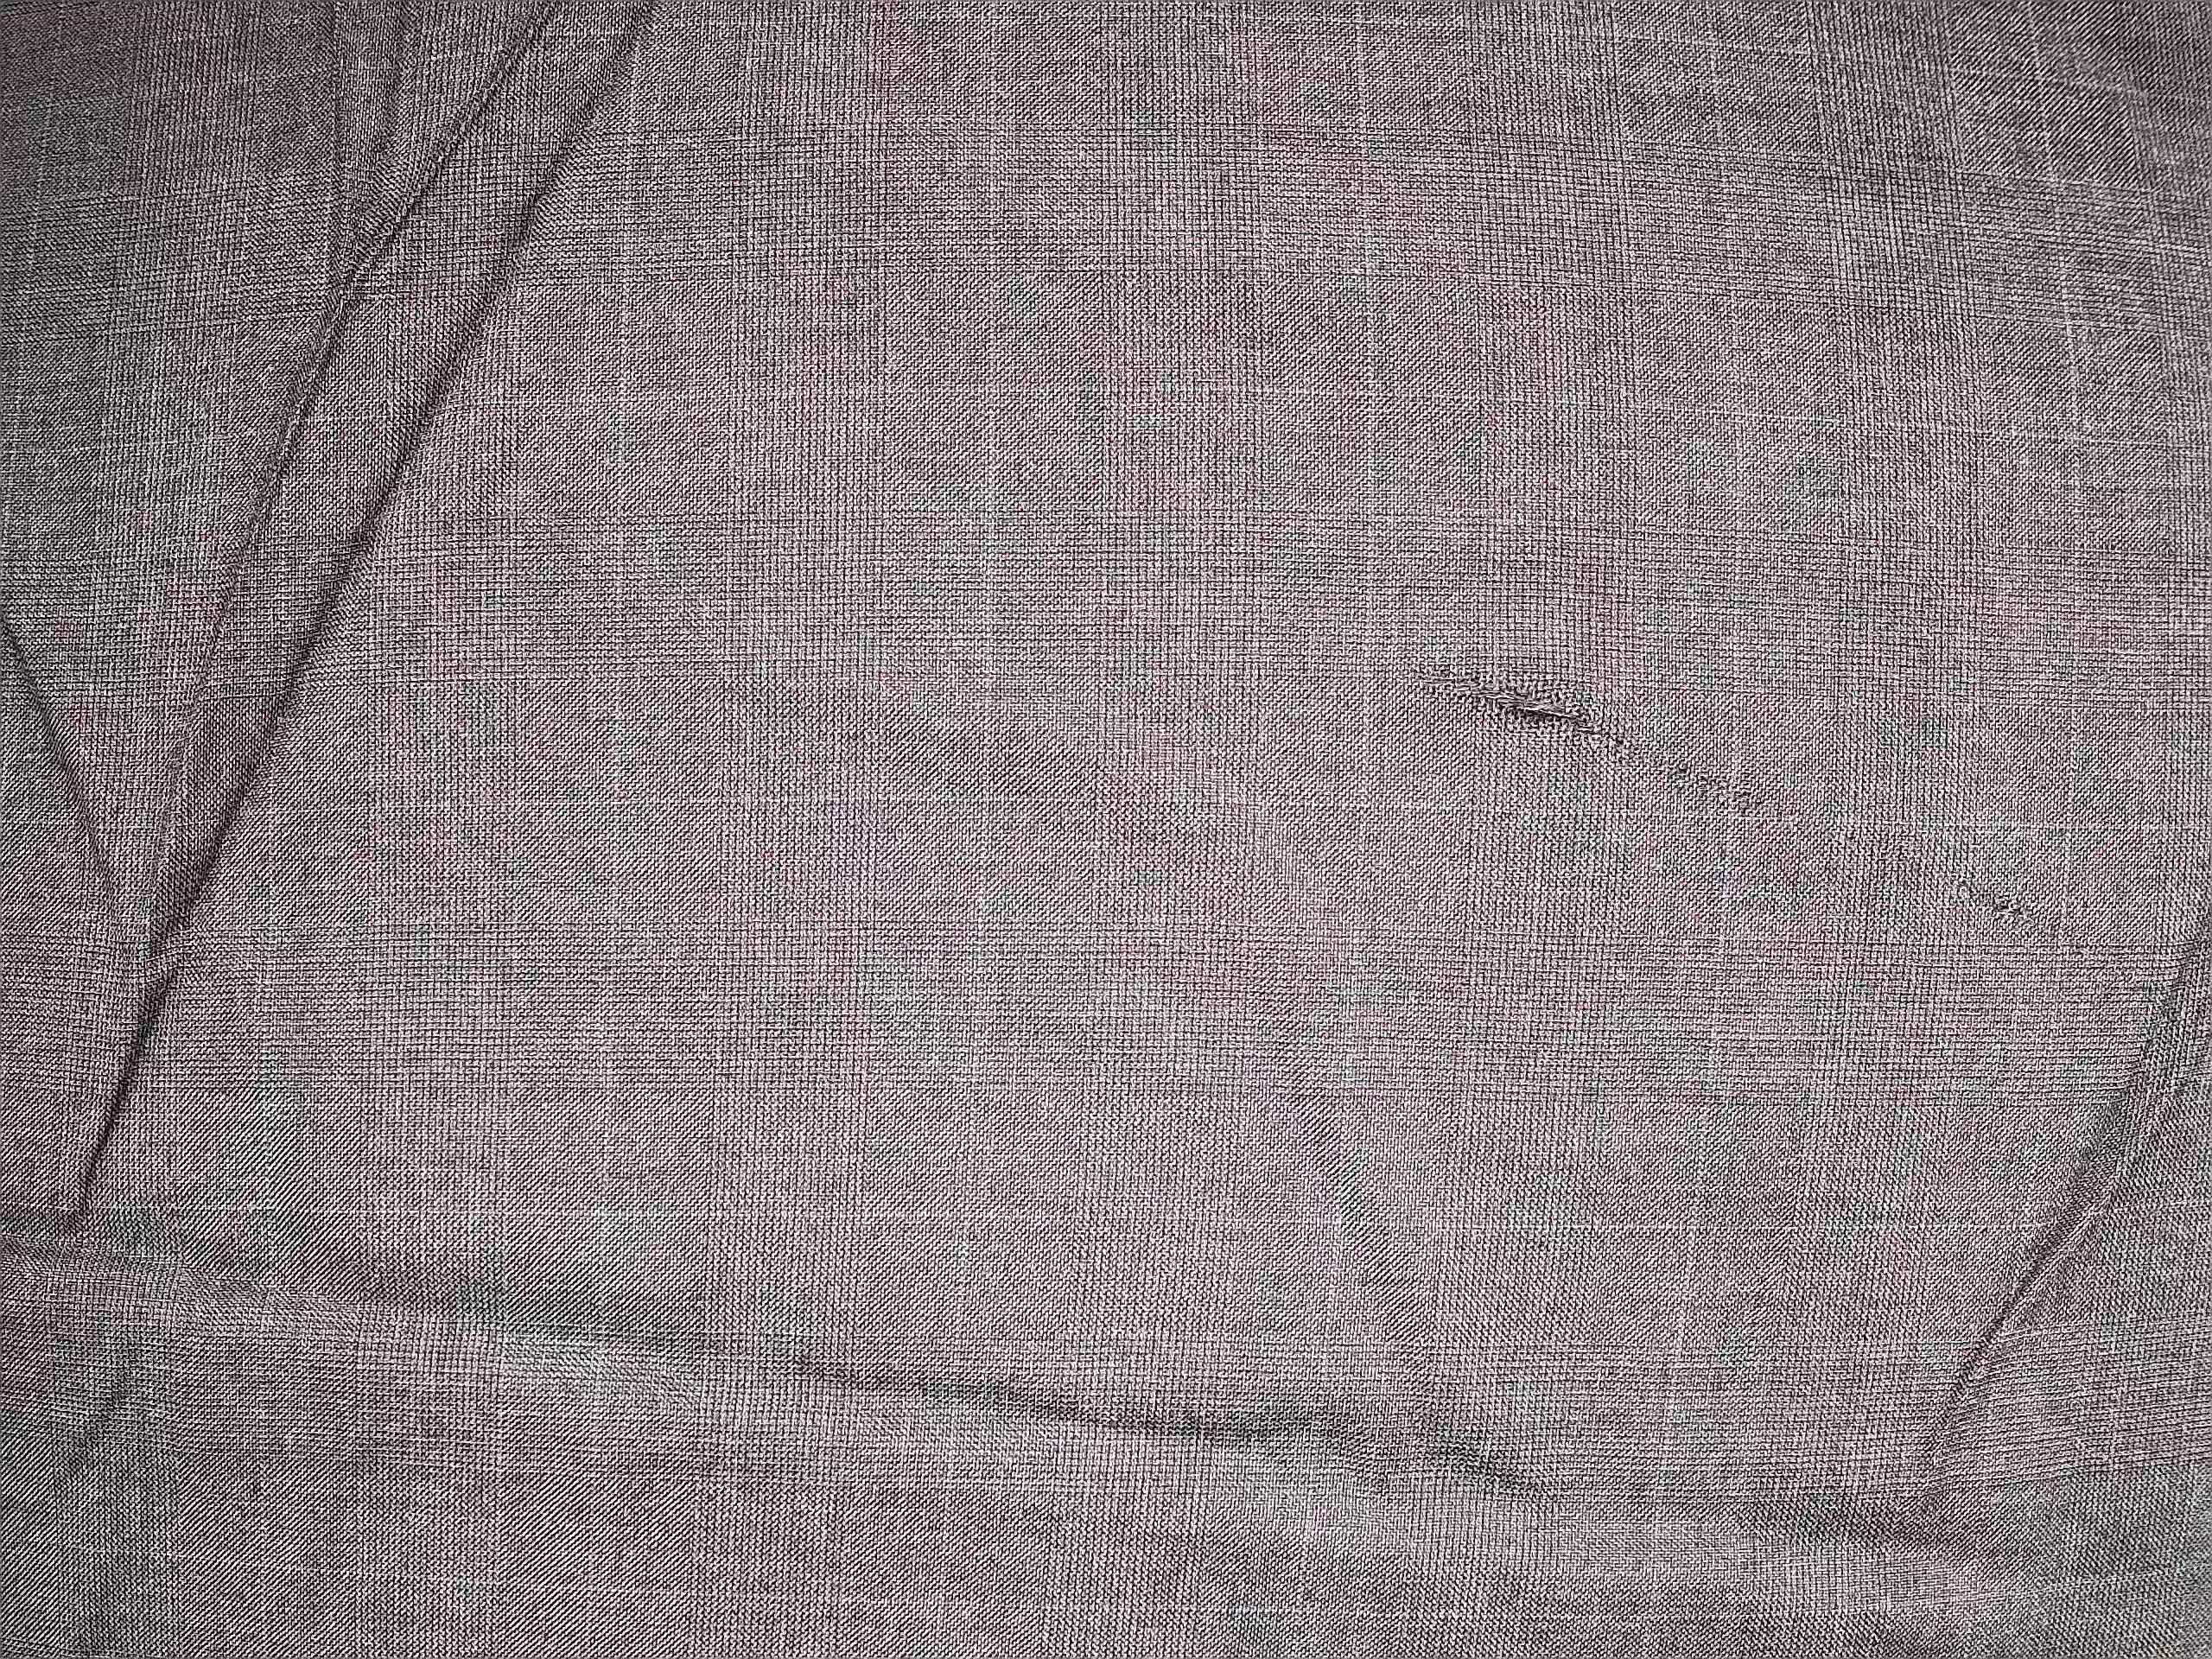puncture-hole: (1379, 598, 2184, 1049)
